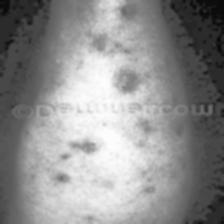Non-Cancerous Skin Condition: (111, 68, 138, 93), (93, 34, 125, 54), (116, 1, 136, 20), (83, 142, 98, 155), (58, 174, 68, 182)
